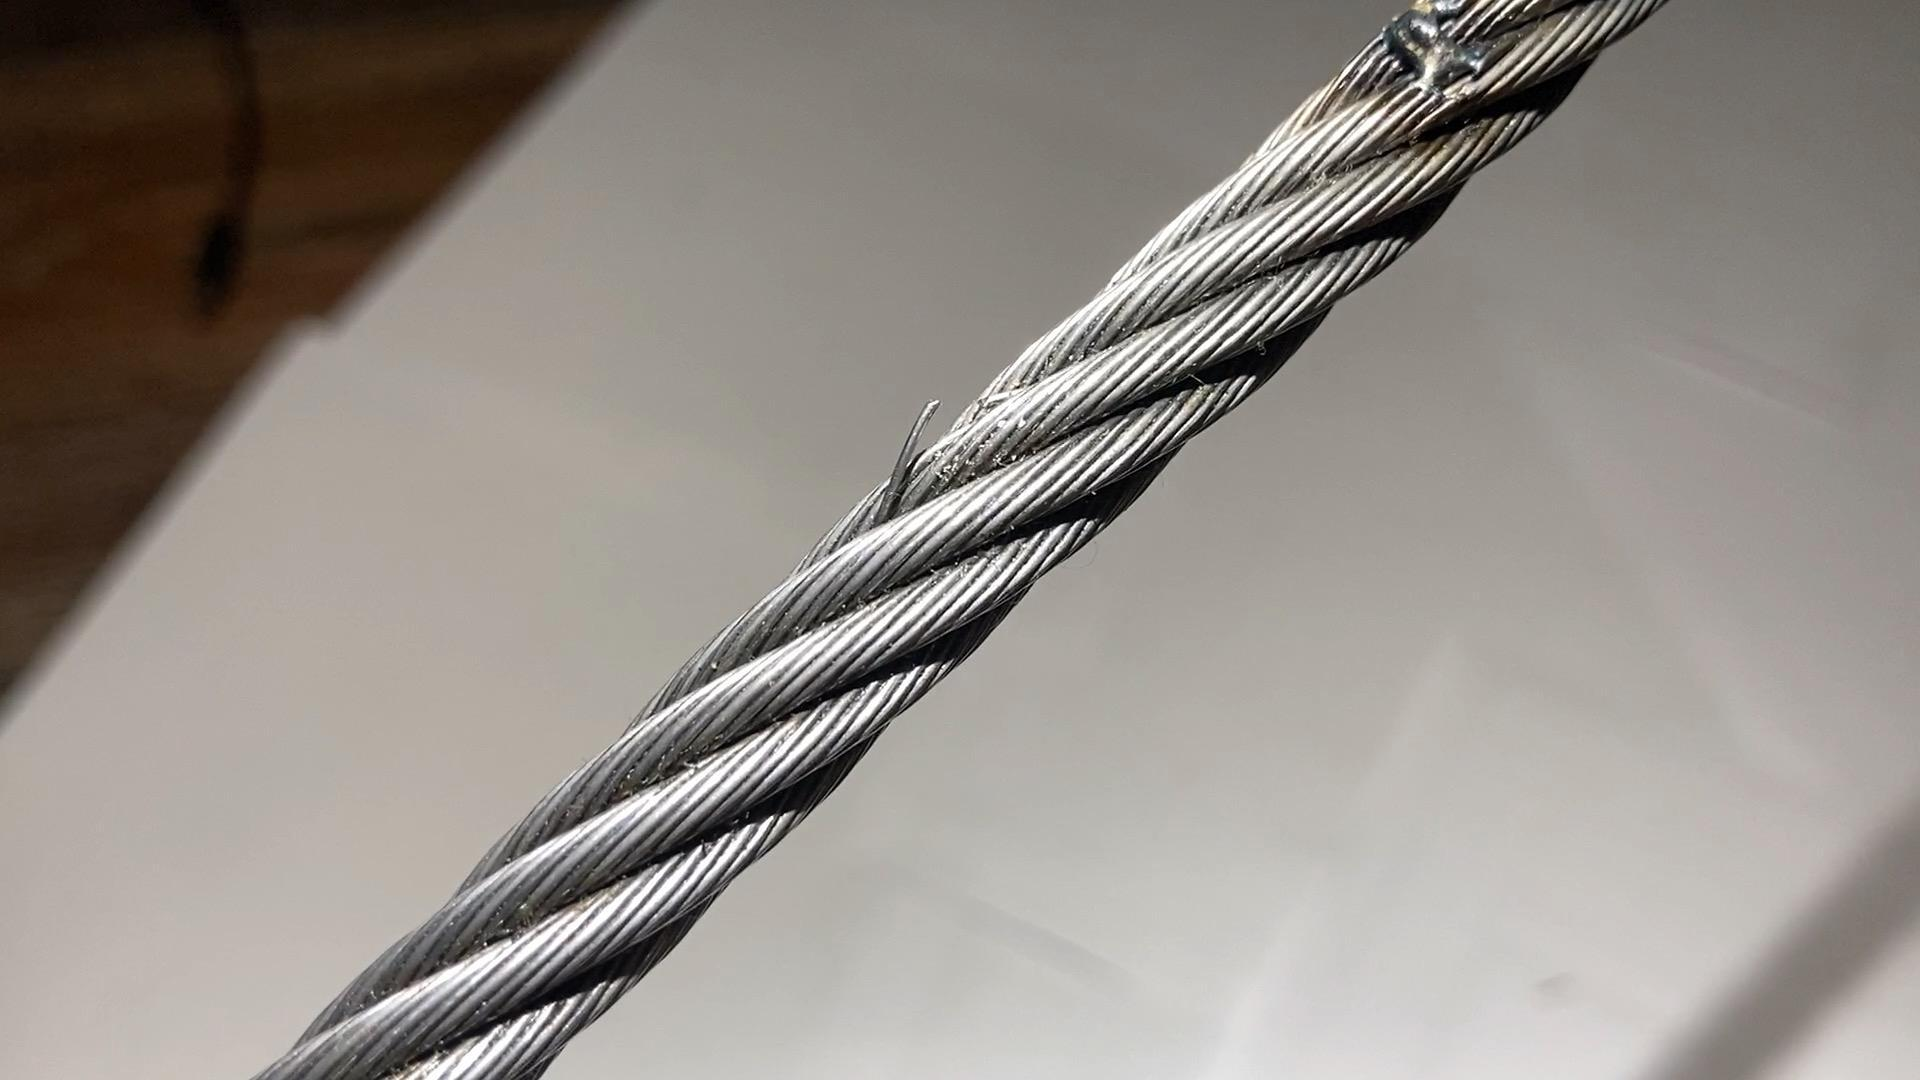break: (865, 380, 971, 506)
thunderbolt: (1381, 13, 1507, 94)
